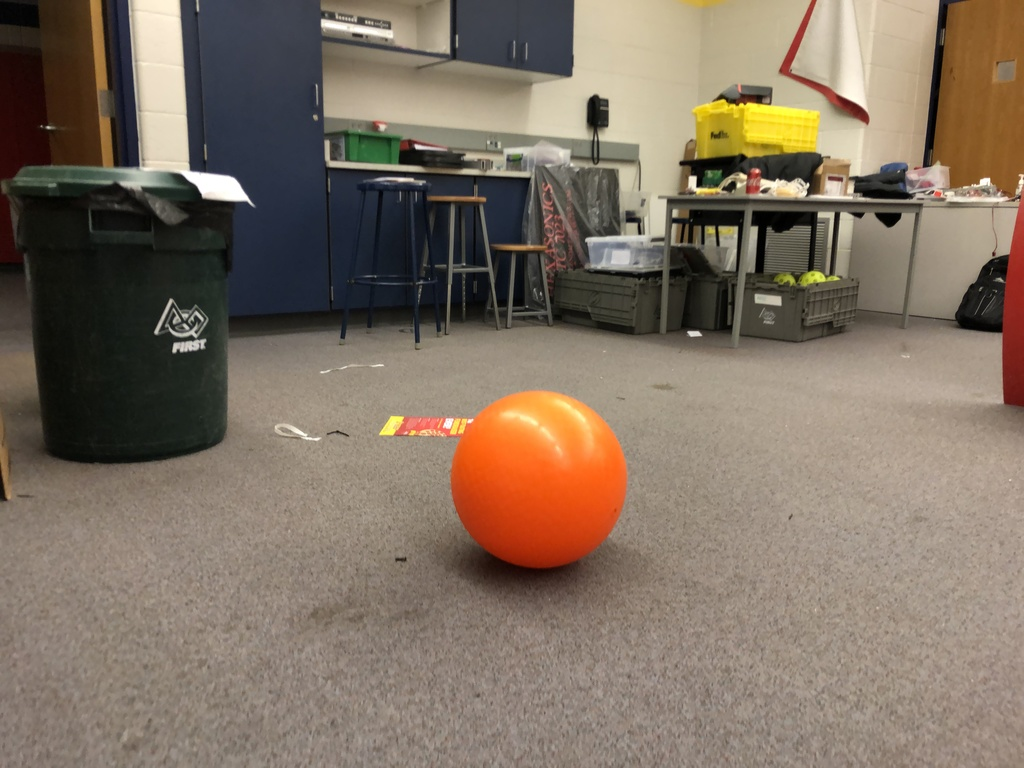cargo: (445, 387, 642, 585)
